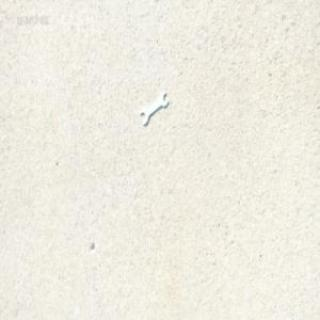Wrenchtrack_idkeyframe: (138, 90, 168, 125)
